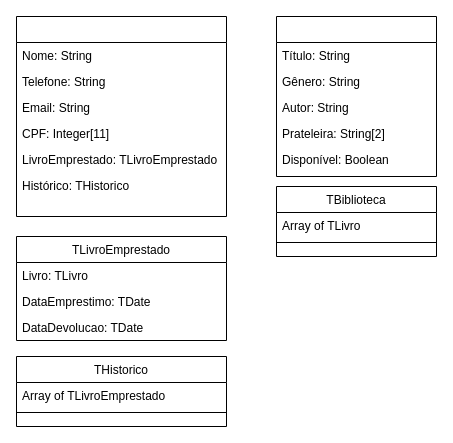
Image size: 453x443. Some labels were removed from this diagram. The box of each missing label's shape, as (x1, y1, x2, y2) in pixels:
TLivro: (276, 16, 436, 176)
TUsuario: (16, 16, 226, 216)
